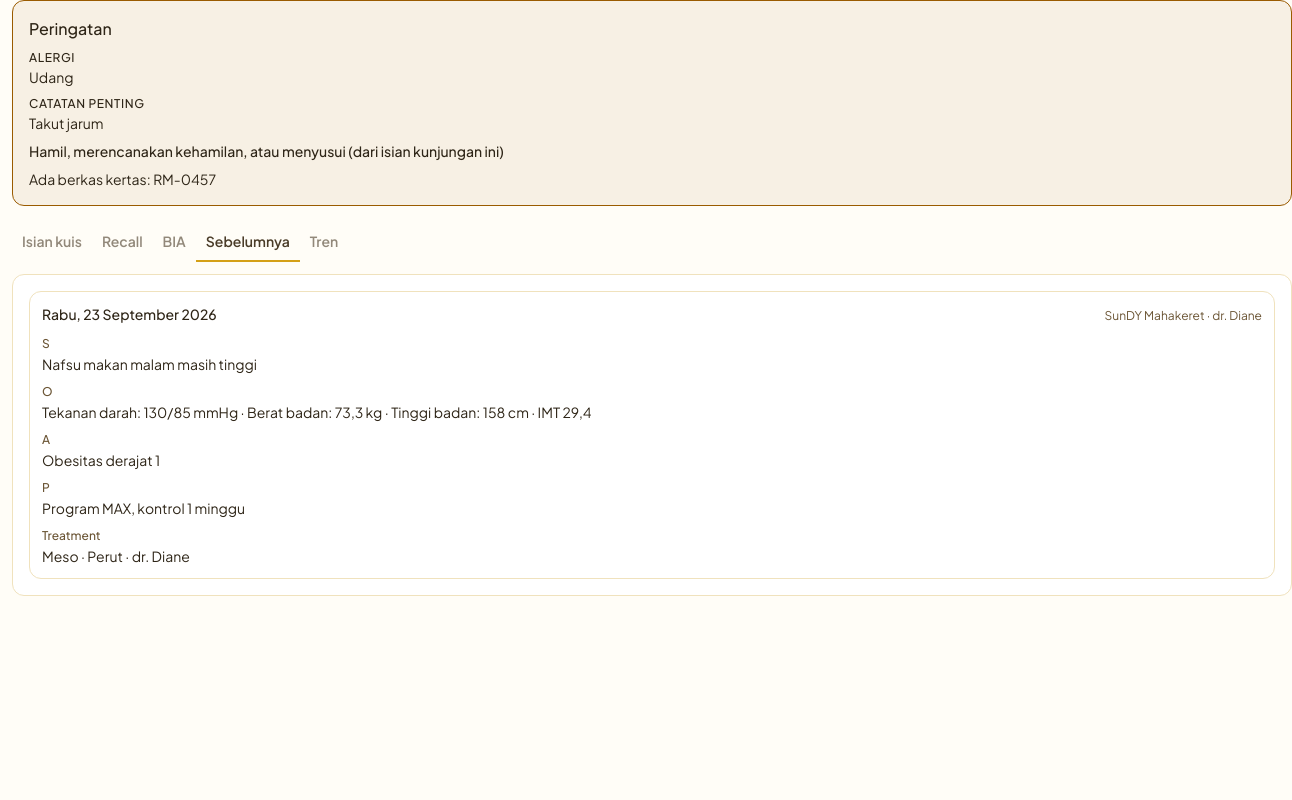
it: EncounterContextPanel › tab Tren: berat yang belum sah tampil sebagai tanda pisah, bukan NaN
The image size is (1292, 800).
Step 1. Click the tab "Tren" → (324, 242), box [300,222,348,262]
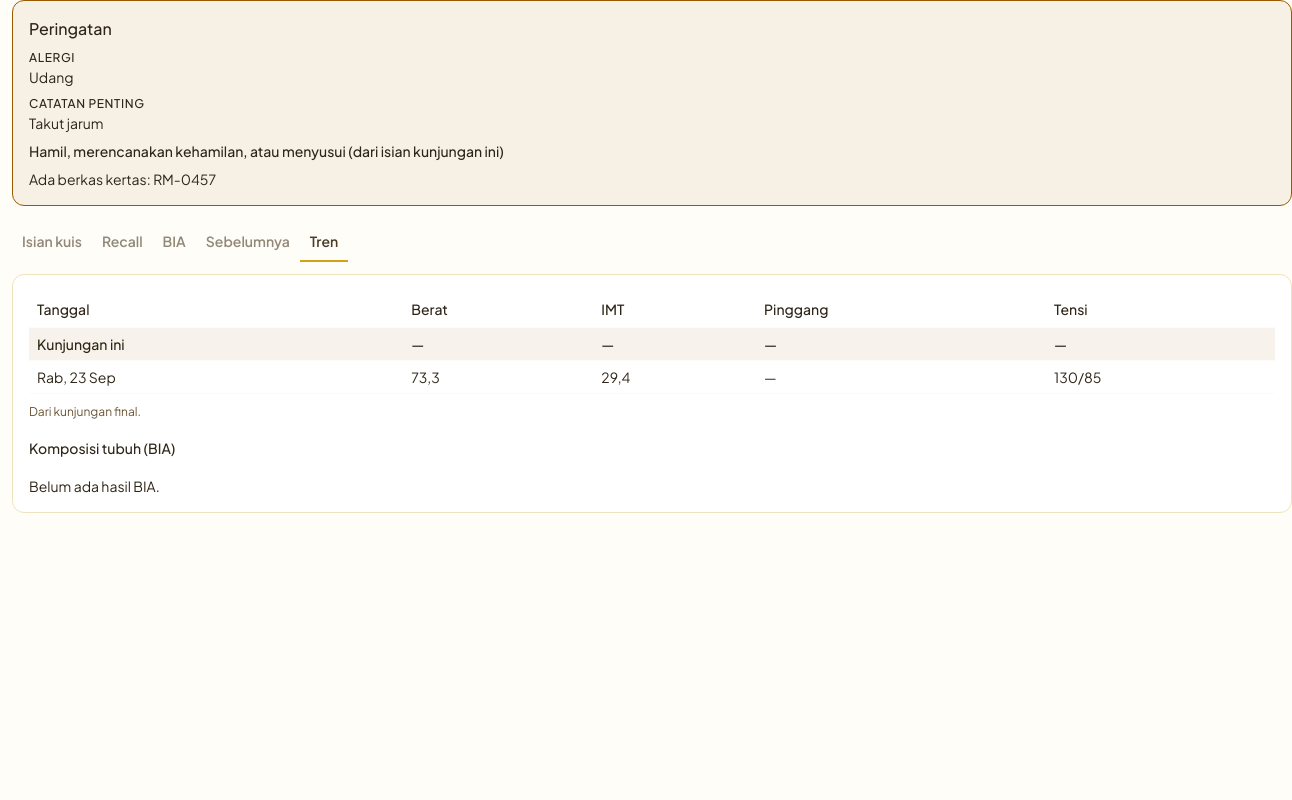
Result: the row "Kunjungan ini — — — —" is shown at [29,328,1275,361]
Result: the text "nan" is gone
